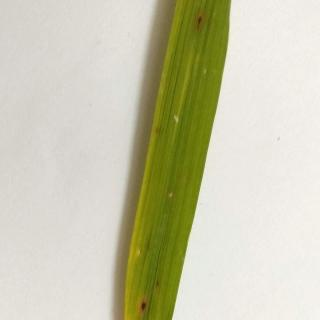bercak-Cokelat: (190, 13, 212, 33), (138, 293, 154, 315)
